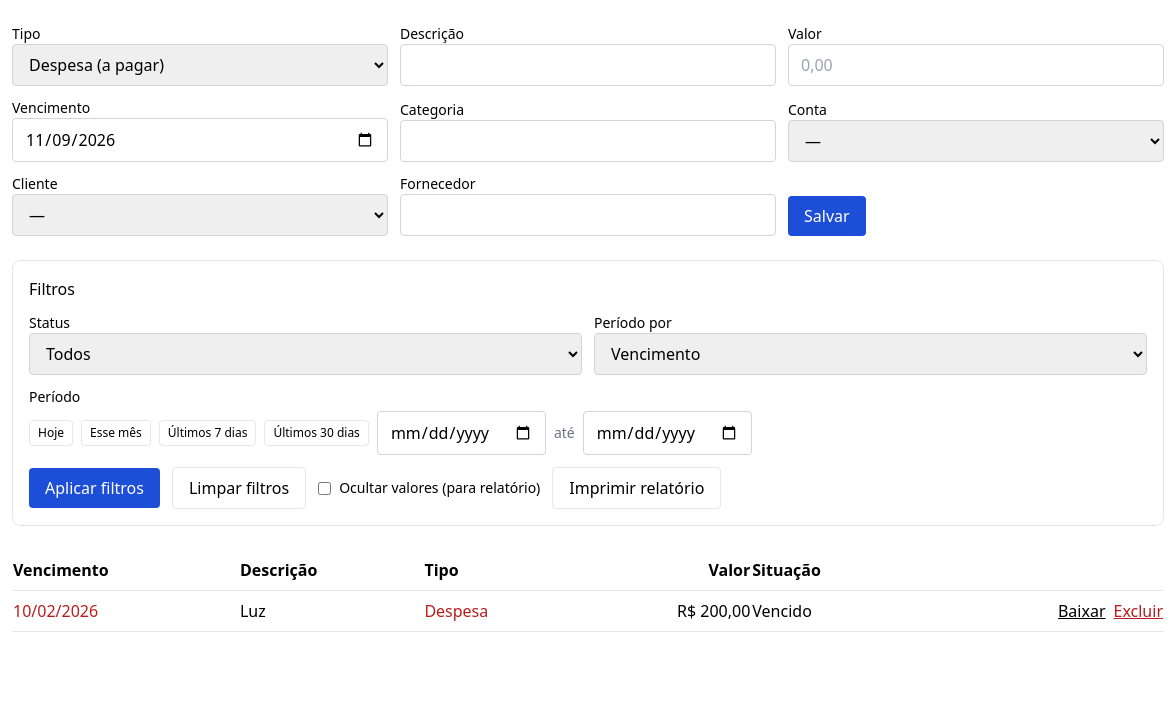
LancamentosPage › ocultar valores esconde os R$ na lista
This screenshot has width=1176, height=720.
Expected: the text "Luz" is shown, [239,590,423,632]
Expected: the text "R$ 200,00" is shown, [576,590,751,632]
Step 1. Click the checkbox labelled "Ocultar valores (para relatório)" → click(325, 488), box [318,482,331,494]
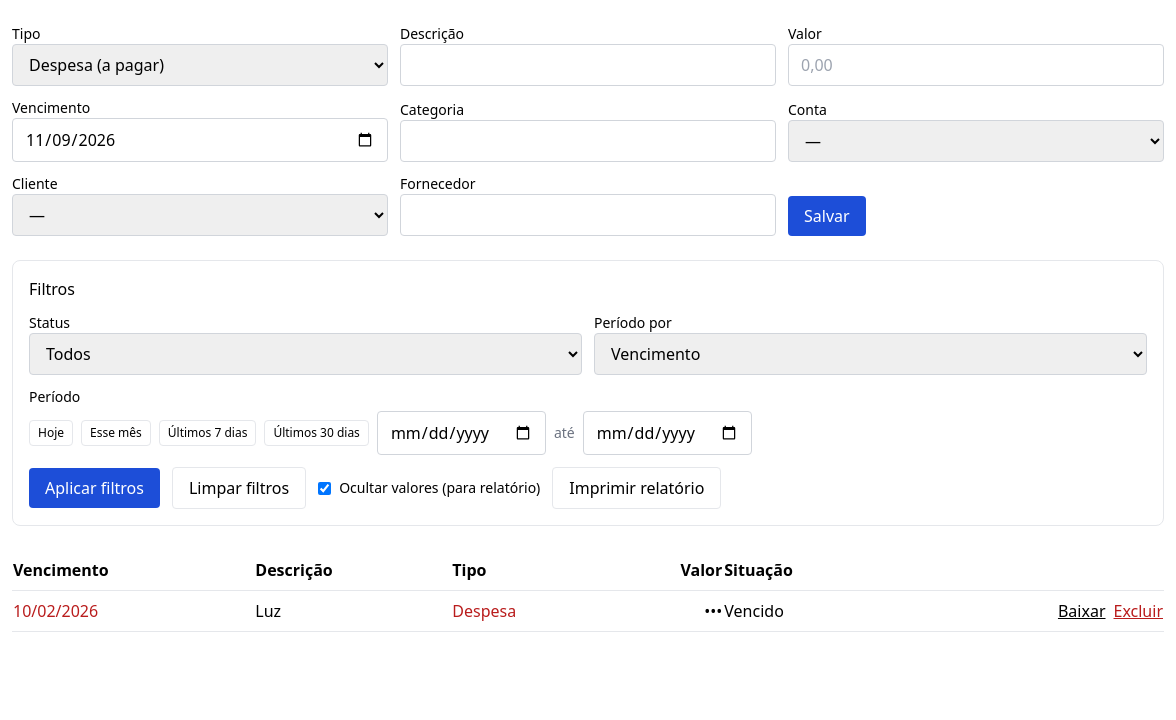
Expected: the text "200,00" is gone
